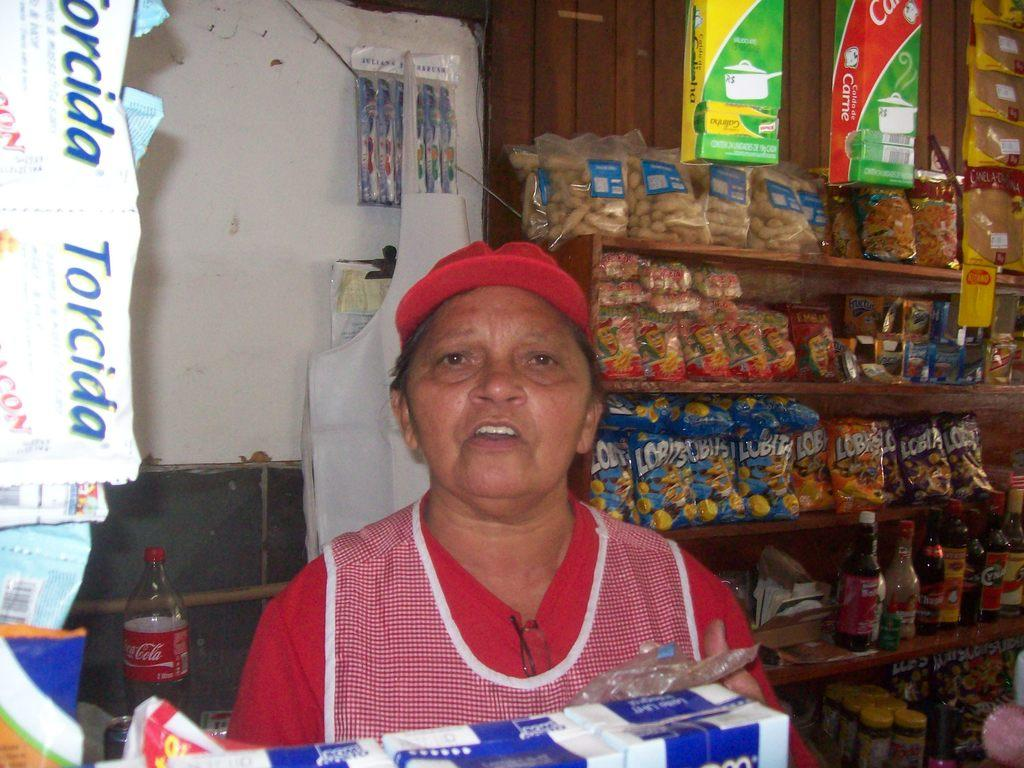Hat: (396, 233, 596, 349)
